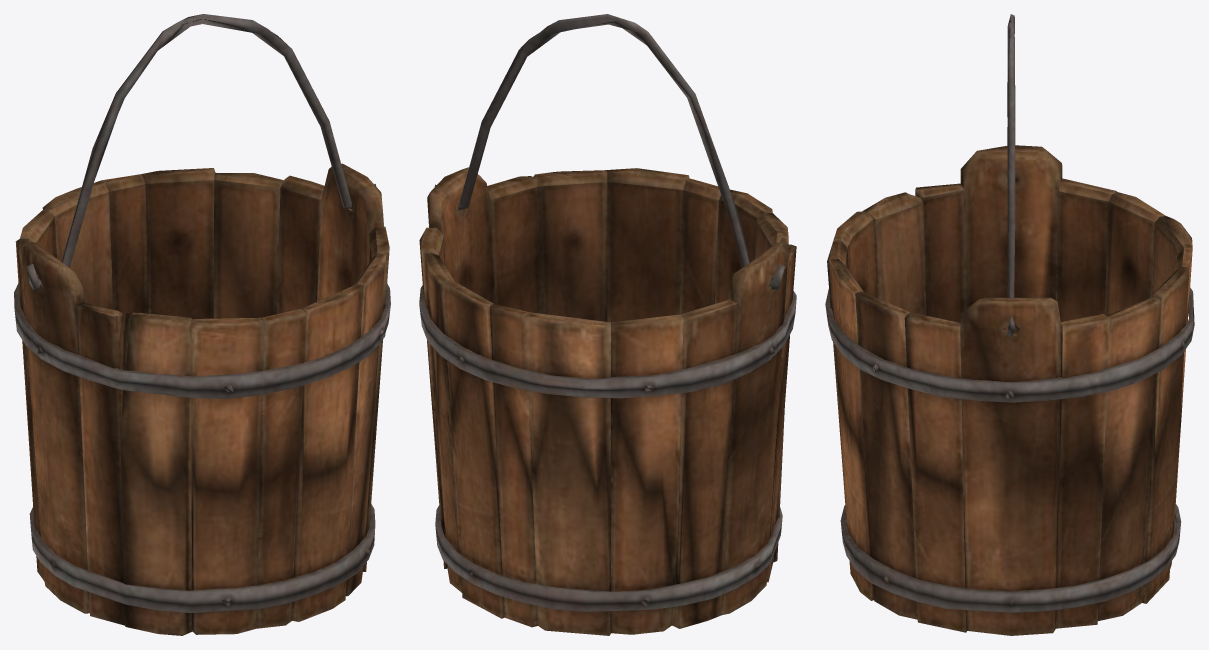
3 renders of one model, left to right at view 1: azimuth 30°, elevation 25°; view 2: azimuth 150°, elevation 25°; view 3: azimuth 270°, elevation 25°, orthographic.
Parts seen in each view (by area): view 1: wooden_bucket_01, wooden_bucket_01_handle; view 2: wooden_bucket_01, wooden_bucket_01_handle; view 3: wooden_bucket_01, wooden_bucket_01_handle.
Part boxes in pixels (x1,y1,x2,y2): wooden_bucket_01: (14,163,390,635); wooden_bucket_01_handle: (27,14,376,289); wooden_bucket_01: (419,167,796,635); wooden_bucket_01_handle: (434,14,784,289); wooden_bucket_01: (825,145,1194,635); wooden_bucket_01_handle: (1007,14,1015,336).
Size of the model in its own units: 0.3647 by 0.5493 by 0.3394.
Materials: 1 (1 with a texture image).
